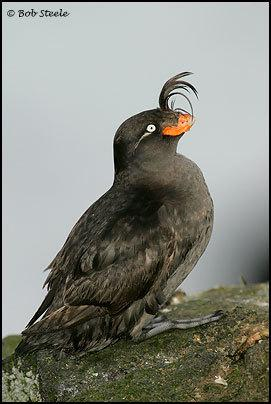005.Crested_Auklet: (14, 70, 215, 363)
